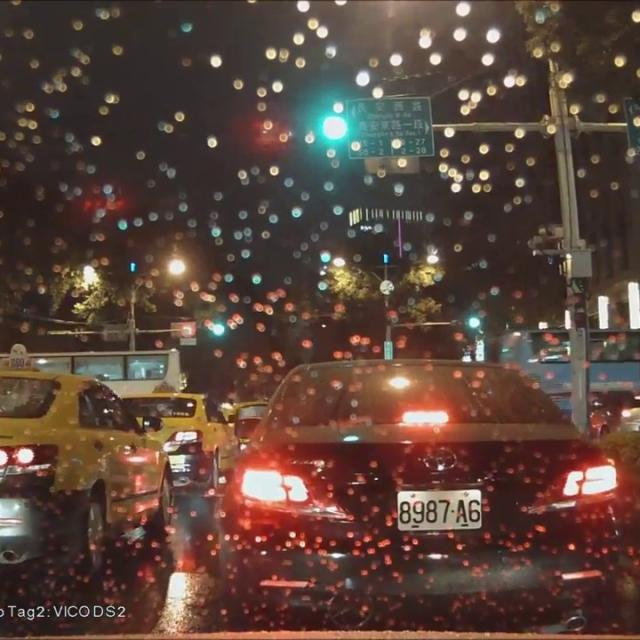Car: (0, 359, 172, 575), (103, 388, 245, 491), (585, 392, 639, 443), (221, 398, 267, 449)
